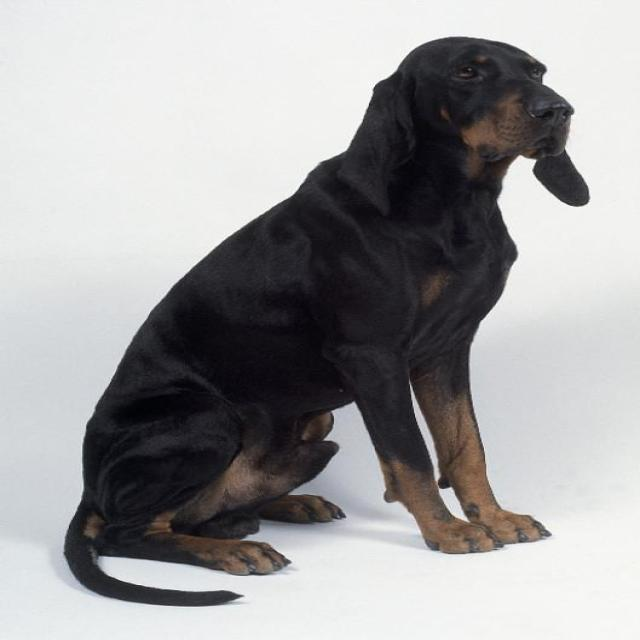dog: (21, 7, 613, 606)
